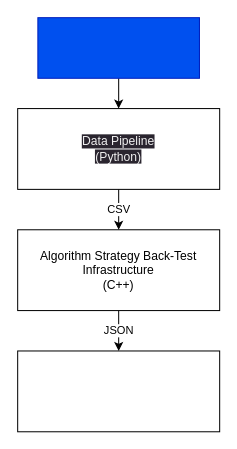
The diagram is 237 pixels wide and 449 high, and some of its shapes have lost their labels. Each missing label, with the box of its shape:
Alpha Vantage API (Equity + Fixed Income Data): (37, 17, 199, 78)
Data Analytics (Python): (17, 350, 220, 432)
